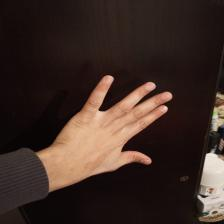five: (66, 73, 174, 171)
